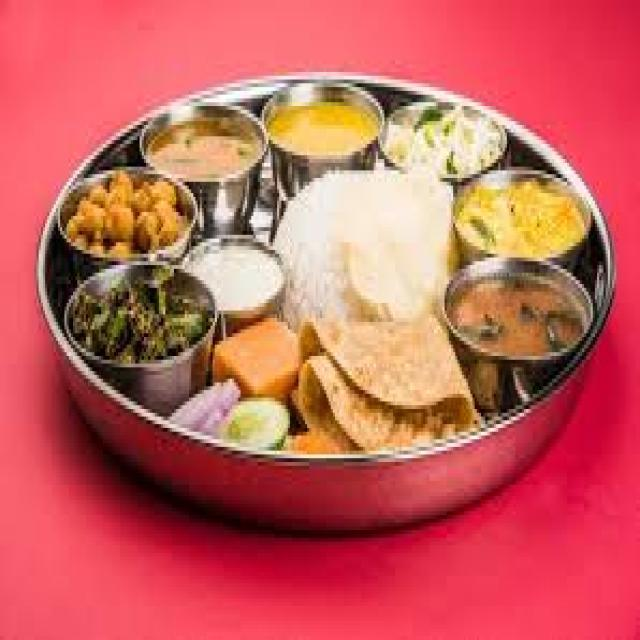curd: (187, 223, 295, 322)
dal: (449, 162, 591, 276), (261, 89, 388, 173)
rice: (274, 169, 464, 325)
roti: (298, 296, 497, 456)
sambar-rasam: (445, 258, 600, 384), (142, 95, 264, 205)
veg-fry: (59, 256, 212, 384), (51, 147, 198, 267)
